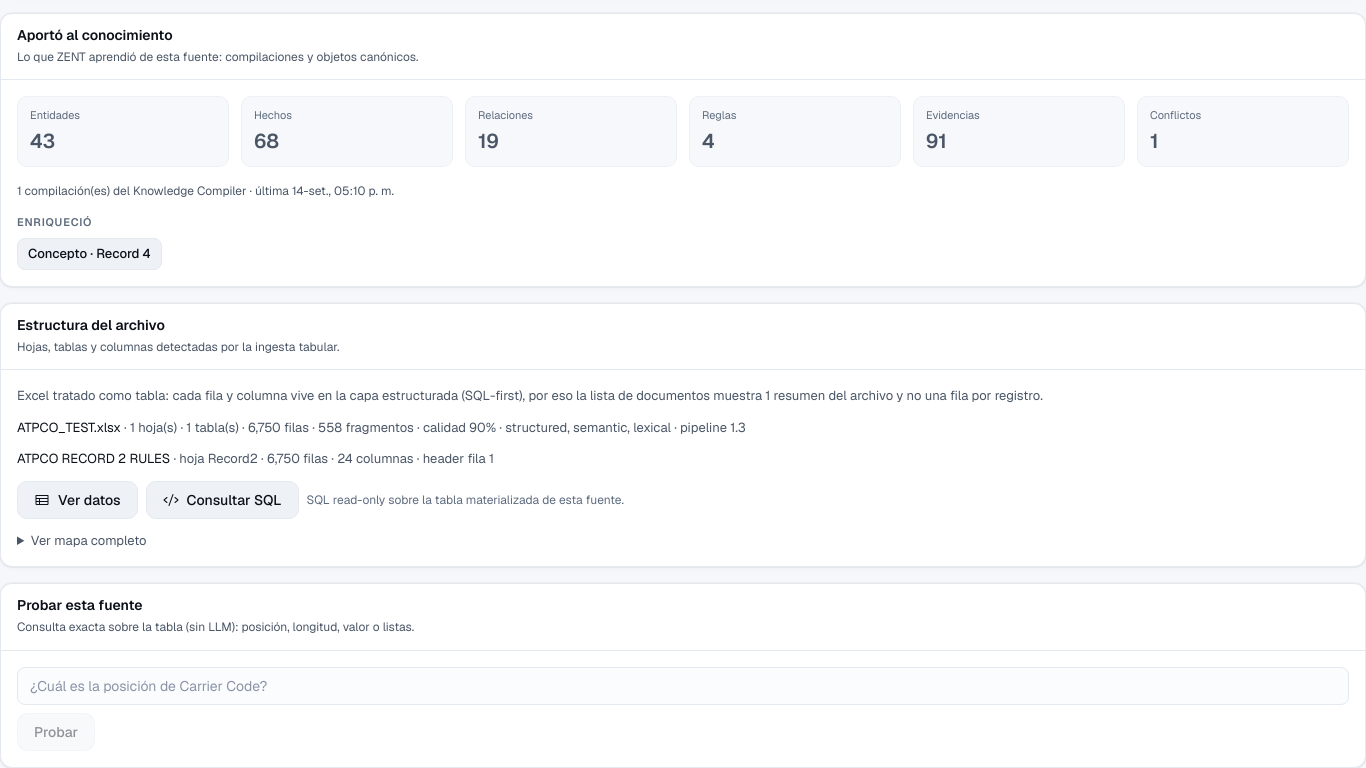
Test: SourceDetailPage › prueba una consulta exacta contra la fuente y muestra procedencia
The image size is (1366, 768).
(page scrolled)
Step 1. Type "posición de Carrier Code" into the field with test id "source-test-query" → [683, 686], box [17,666,1349,704]
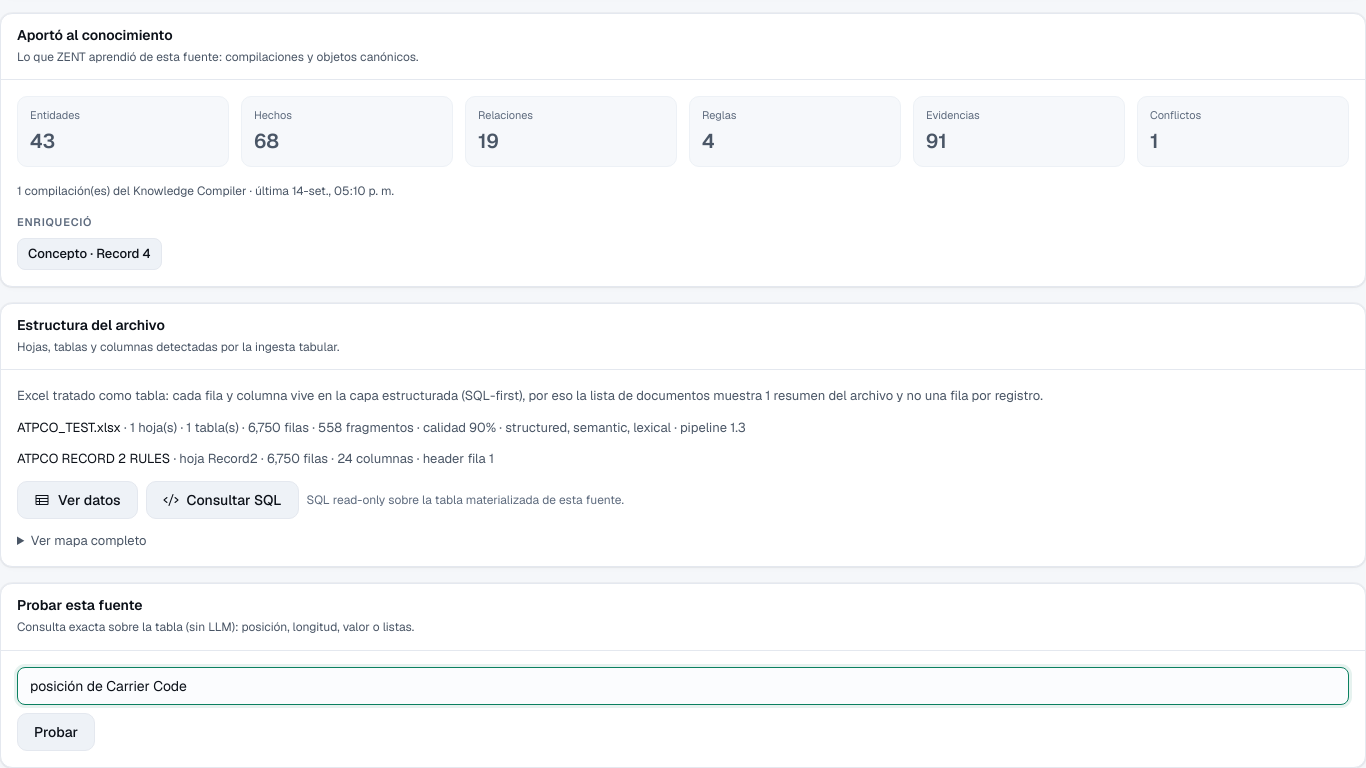
Step 2. Click the button with test id "source-test-run" → [56, 732], box [17,712,95,750]
(page scrolled)
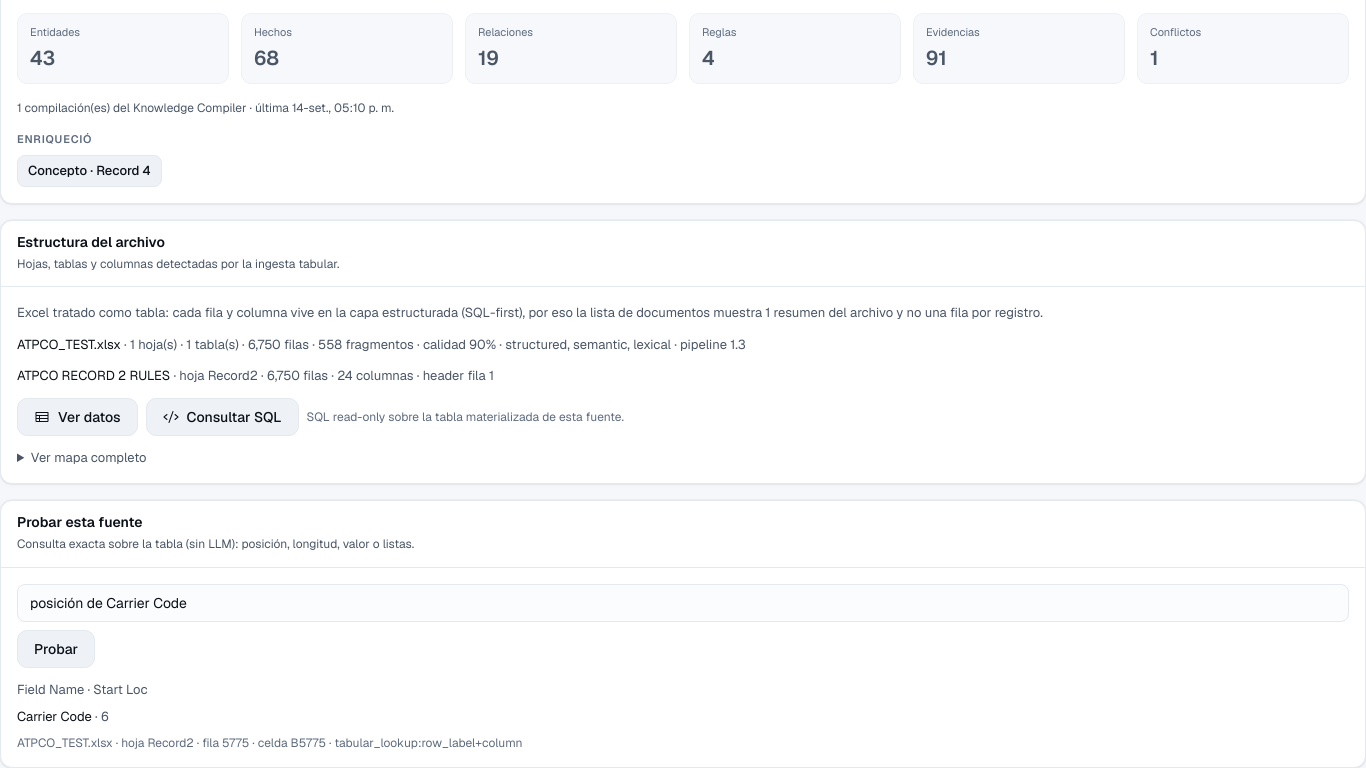
Check: the element with test id "source-test-result" shows "Carrier Code", box [17,708,92,725]
Check: the element with test id "source-test-result" shows "6", box [101,708,109,725]
Check: the element with test id "source-test-result" shows "B5775", box [249,734,326,750]
